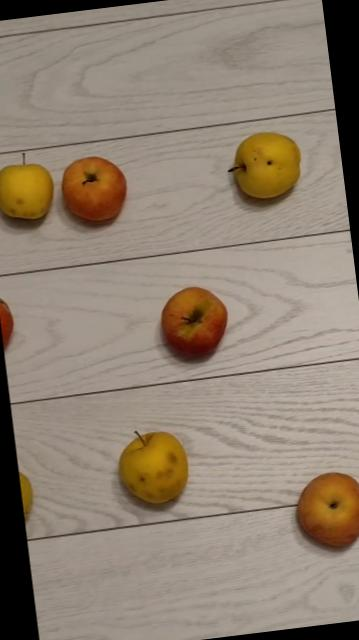apple_green: (114, 426, 190, 504), (224, 127, 302, 200), (0, 151, 53, 223), (17, 467, 36, 525)
apple_red: (155, 282, 231, 359), (290, 466, 359, 549), (56, 152, 129, 224), (0, 293, 15, 351)
